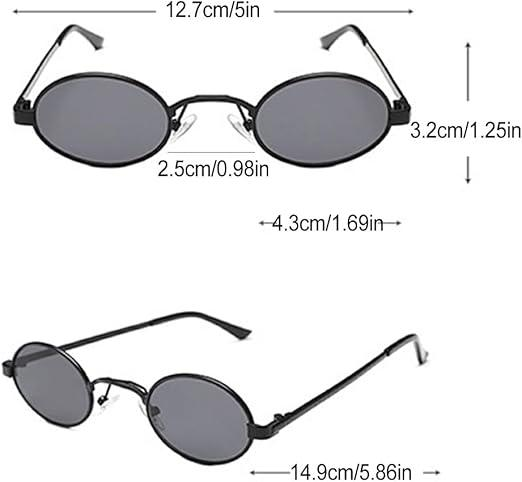spectacles: (1, 273, 414, 468), (11, 18, 431, 191)
